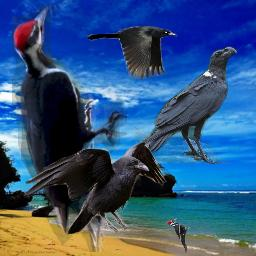Crow: (23, 141, 167, 234), (135, 45, 239, 164), (87, 25, 178, 79)
Woodpecker: (12, 5, 127, 252), (166, 218, 190, 253)
